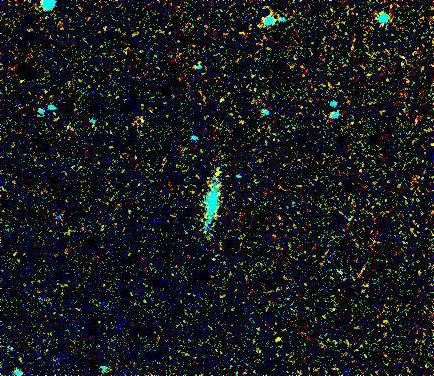star: (262, 321, 292, 351)
